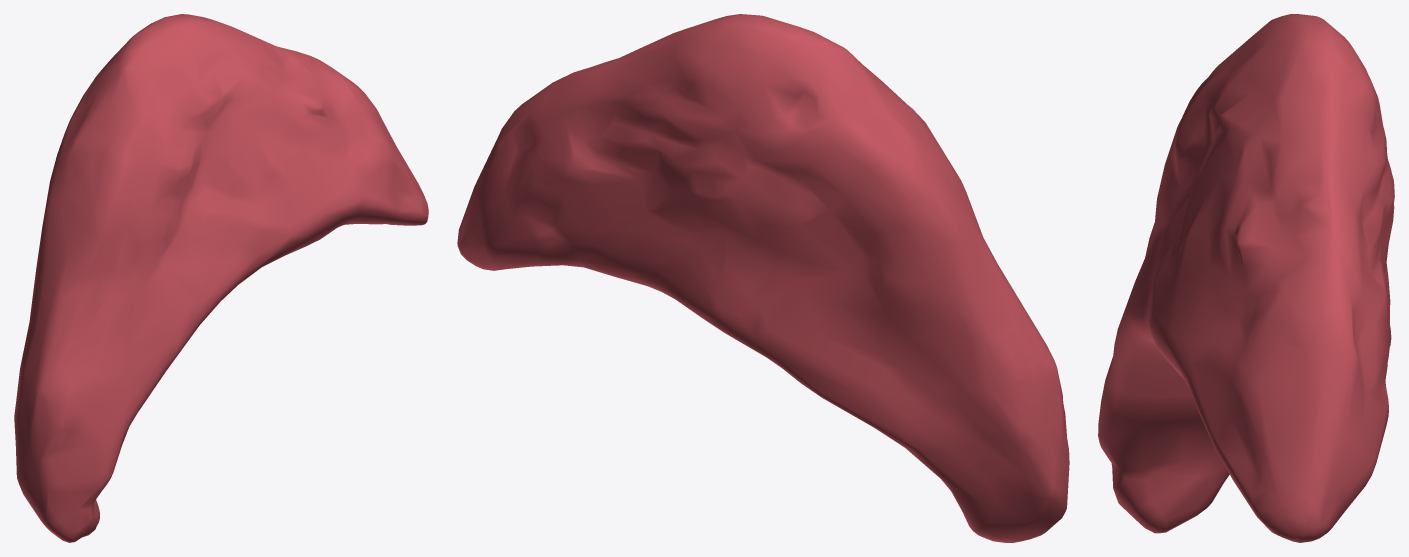
File: visceras-suprarenal-gland-l.glb
3 views of the same model, side by side, from view 1: azimuth 30°, elevation 25°; view 2: azimuth 150°, elevation 25°; view 3: azimuth 270°, elevation 25° (orthographic). The views are drawn at different scales.
Visible parts, largest first — view 1: Suprarenal gland.l; view 2: Suprarenal gland.l; view 3: Suprarenal gland.l.
Part boxes in pixels (x1,y1,x2,y2): Suprarenal gland.l: (14,14,428,542); Suprarenal gland.l: (457,14,1069,542); Suprarenal gland.l: (1098,14,1394,542).
Size of the model in its own units: 0.0482 by 0.0449 by 0.0201.
